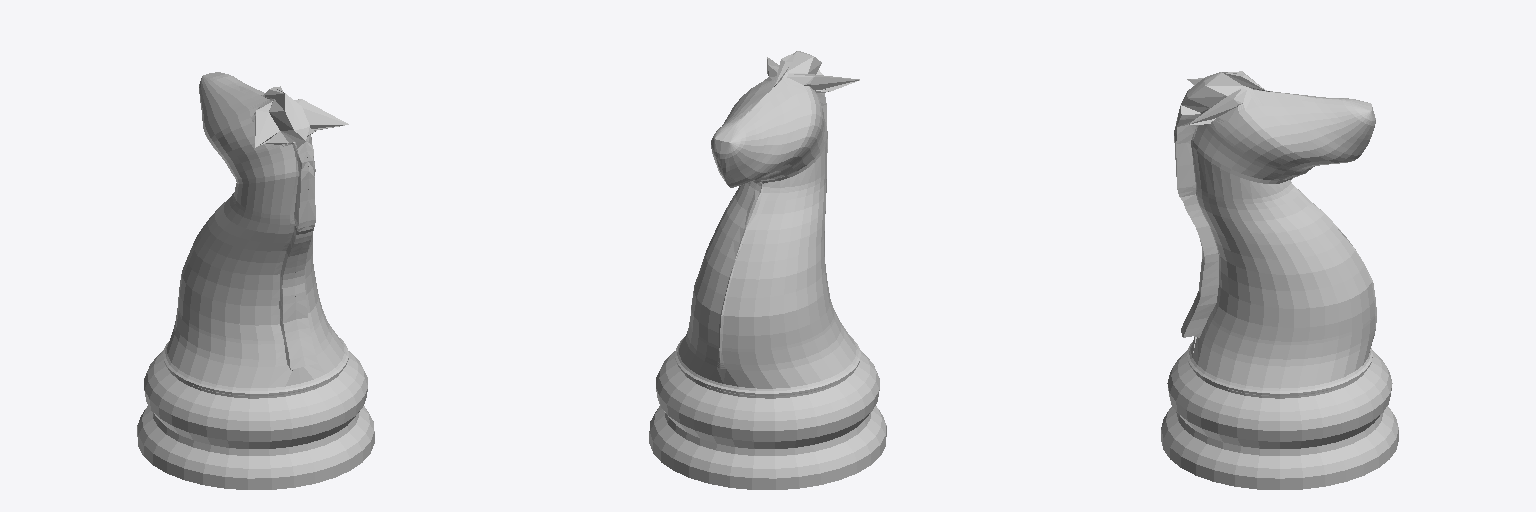
Rendered from white_knight.obj.
3 views of the same model, side by side, from view 1: azimuth 30°, elevation 25°; view 2: azimuth 150°, elevation 25°; view 3: azimuth 270°, elevation 25° (orthographic).
Parts seen in each view (by area): view 1: Light_Knight_2; view 2: Light_Knight_2; view 3: Light_Knight_2.
Boxes of the visible parts, <box> form: Light_Knight_2: <box>137,72,374,489</box>; Light_Knight_2: <box>649,51,886,489</box>; Light_Knight_2: <box>1161,71,1398,489</box>.
Bounding box in the file's own units: 1.24 × 2.12 × 1.24.